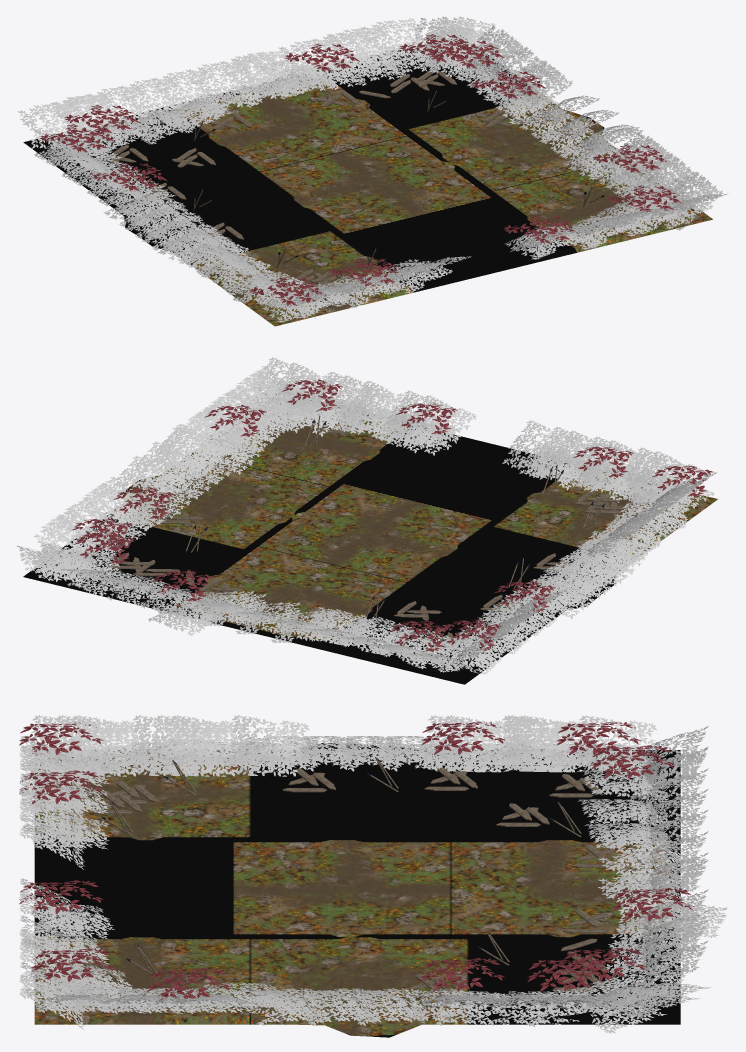
File: 1 Puerta.fbx
The picture shows the model from 3 angles, top to bottom: view 1: azimuth 30°, elevation 25°; view 2: azimuth 150°, elevation 25°; view 3: azimuth 270°, elevation 25°; orthographic projection. The views are drawn at different scales.
Parts seen in each view (by area): view 1: pCylinder40; view 2: pCylinder40; view 3: pCylinder40.
Part boxes in pixels (box(x1,y1,x2,y2)): pCylinder40: box(17, 16, 728, 326); pCylinder40: box(16, 357, 717, 684); pCylinder40: box(19, 715, 727, 1037).
Bounding box in the file's own units: 518 × 41.11 × 520.
